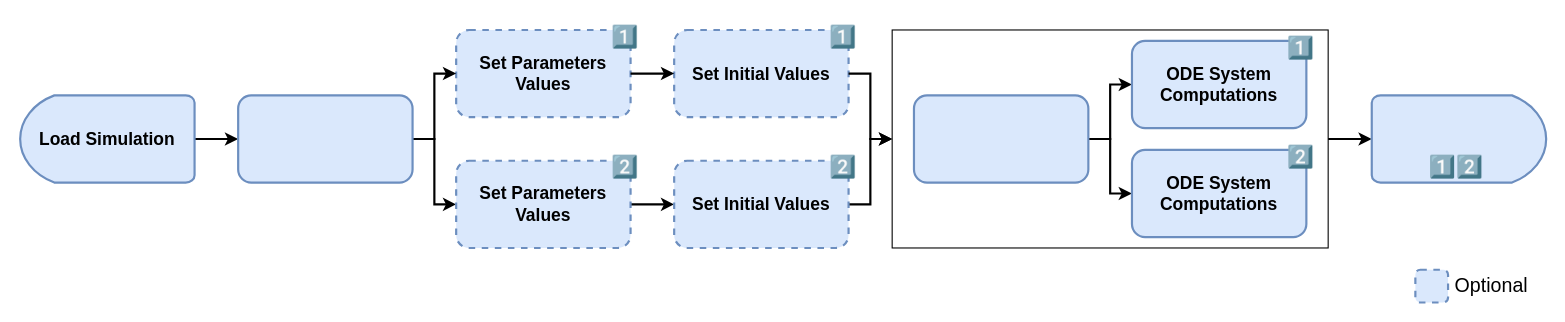
The diagram is 1565 pixels wide and 322 high, and some of its shapes have lost their labels. The box of each missing label's shape, as (x1, y1, x2, y2) in pixels:
Create Simulation Batch: (237, 94, 413, 183)
Initialize Simulation Engine: (912, 94, 1089, 183)
Simulation Results: (1370, 94, 1547, 183)
